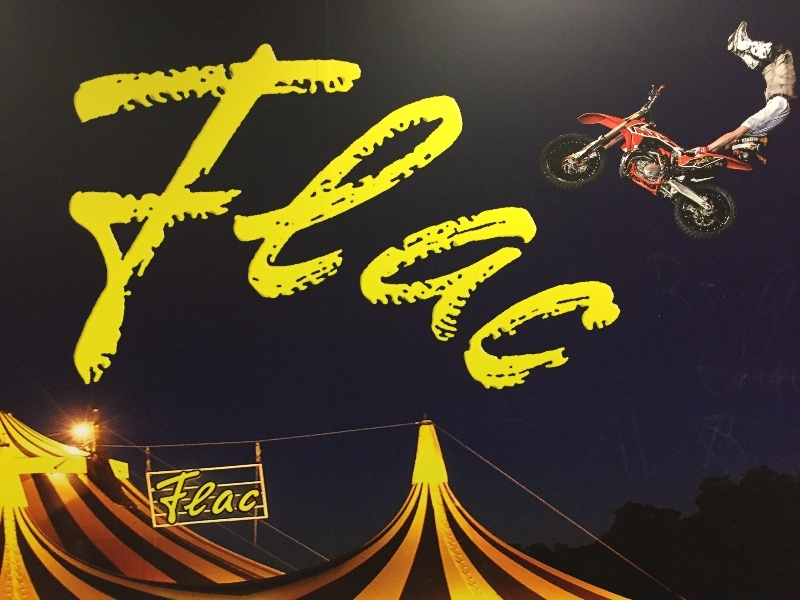text: (81, 18, 96, 428), (97, 18, 112, 428), (113, 18, 128, 428), (129, 18, 144, 428), (145, 18, 160, 428), (161, 18, 176, 428), (177, 18, 192, 428), (193, 18, 208, 428), (209, 18, 224, 428), (225, 18, 240, 428), (241, 18, 256, 428), (257, 18, 272, 428), (273, 18, 288, 428), (289, 18, 304, 428), (305, 18, 320, 428), (321, 18, 336, 428), (337, 18, 352, 428), (353, 18, 368, 428), (369, 18, 384, 428), (385, 18, 400, 428), (401, 18, 416, 428), (417, 18, 432, 428), (433, 18, 448, 428), (449, 18, 464, 428), (465, 18, 480, 428), (481, 18, 496, 428), (497, 18, 512, 428), (513, 18, 528, 428), (529, 18, 544, 428), (545, 18, 560, 428), (561, 18, 576, 428), (577, 18, 592, 428), (593, 18, 608, 428), (609, 18, 624, 428), (625, 18, 640, 428), (641, 18, 656, 428), (74, 18, 80, 428), (657, 18, 660, 428), (161, 466, 176, 527), (177, 466, 192, 527), (193, 466, 208, 527), (209, 466, 224, 527), (225, 466, 240, 527), (241, 466, 256, 527), (154, 466, 160, 527), (257, 466, 262, 527), (741, 137, 752, 143), (753, 137, 758, 143)
